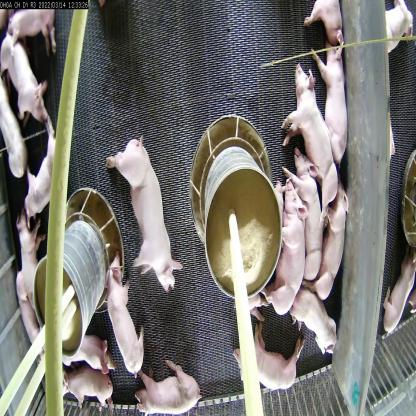Pig: (104, 128, 186, 300), (283, 59, 338, 223), (233, 313, 307, 397), (283, 140, 327, 281), (100, 255, 150, 373), (286, 265, 342, 366), (269, 170, 307, 318), (312, 40, 350, 182), (125, 359, 217, 415), (0, 30, 47, 124), (19, 122, 60, 223), (314, 186, 346, 303), (41, 362, 116, 410), (13, 266, 46, 366), (64, 316, 117, 376), (17, 209, 43, 301)
